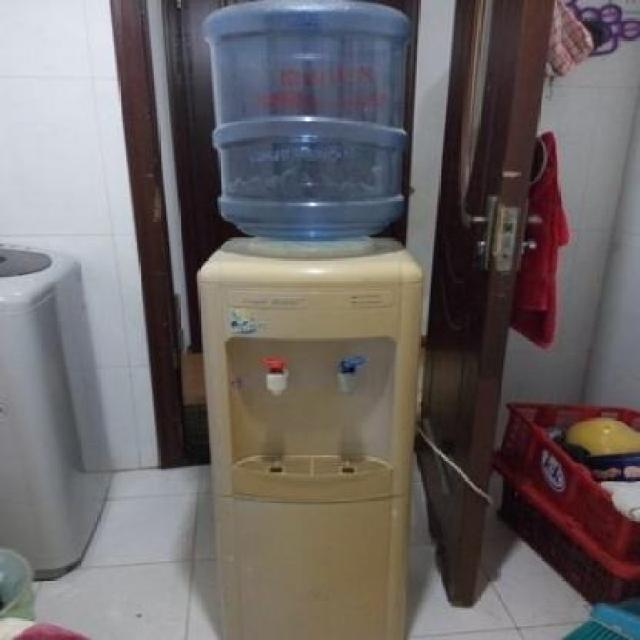coolerbottle: (195, 0, 418, 245)
